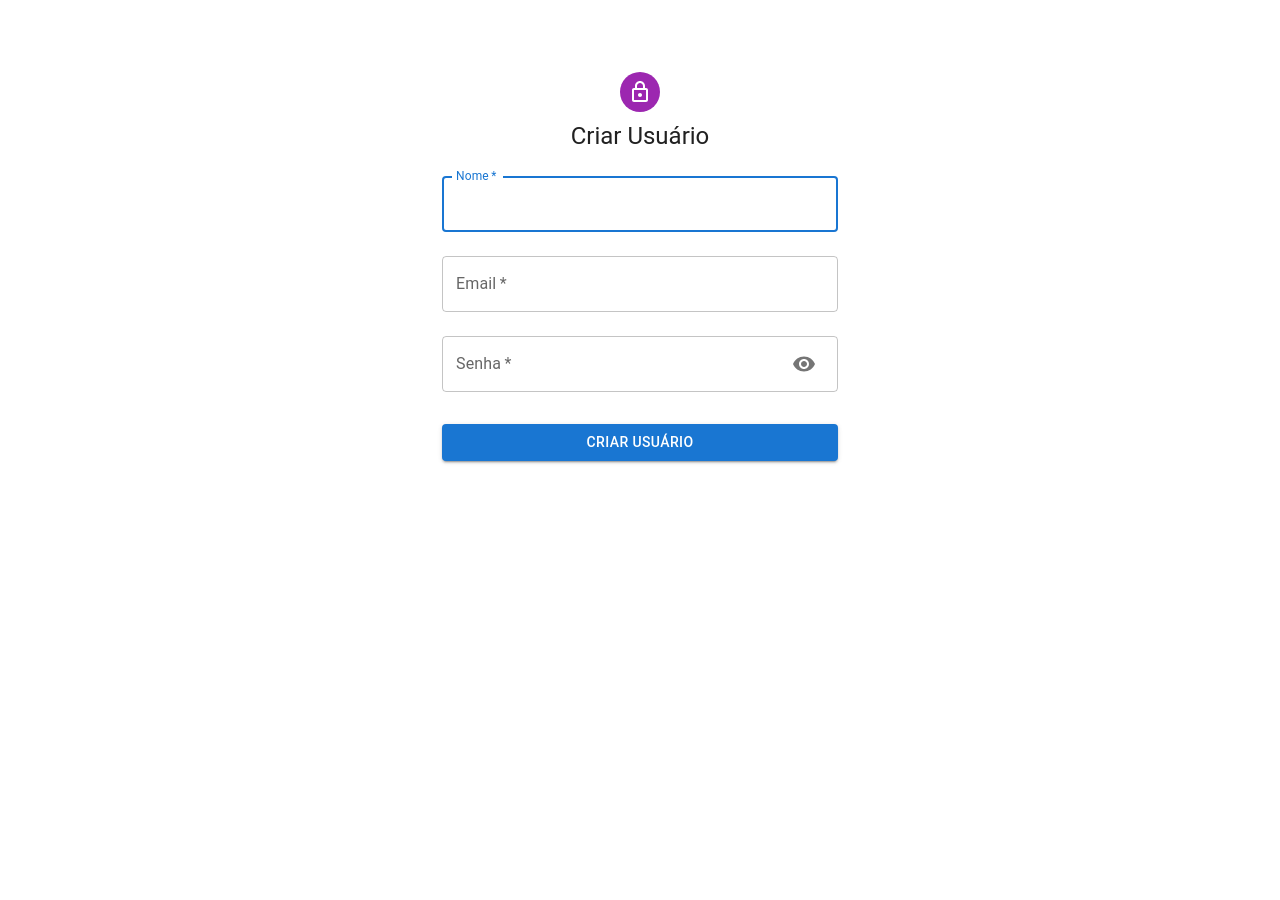
Test case: renders CreateUser and submits form
This screenshot has width=1280, height=900.
Type "Test User" into the field labelled "Nome *" at (640, 204), box [442,176,838,232]
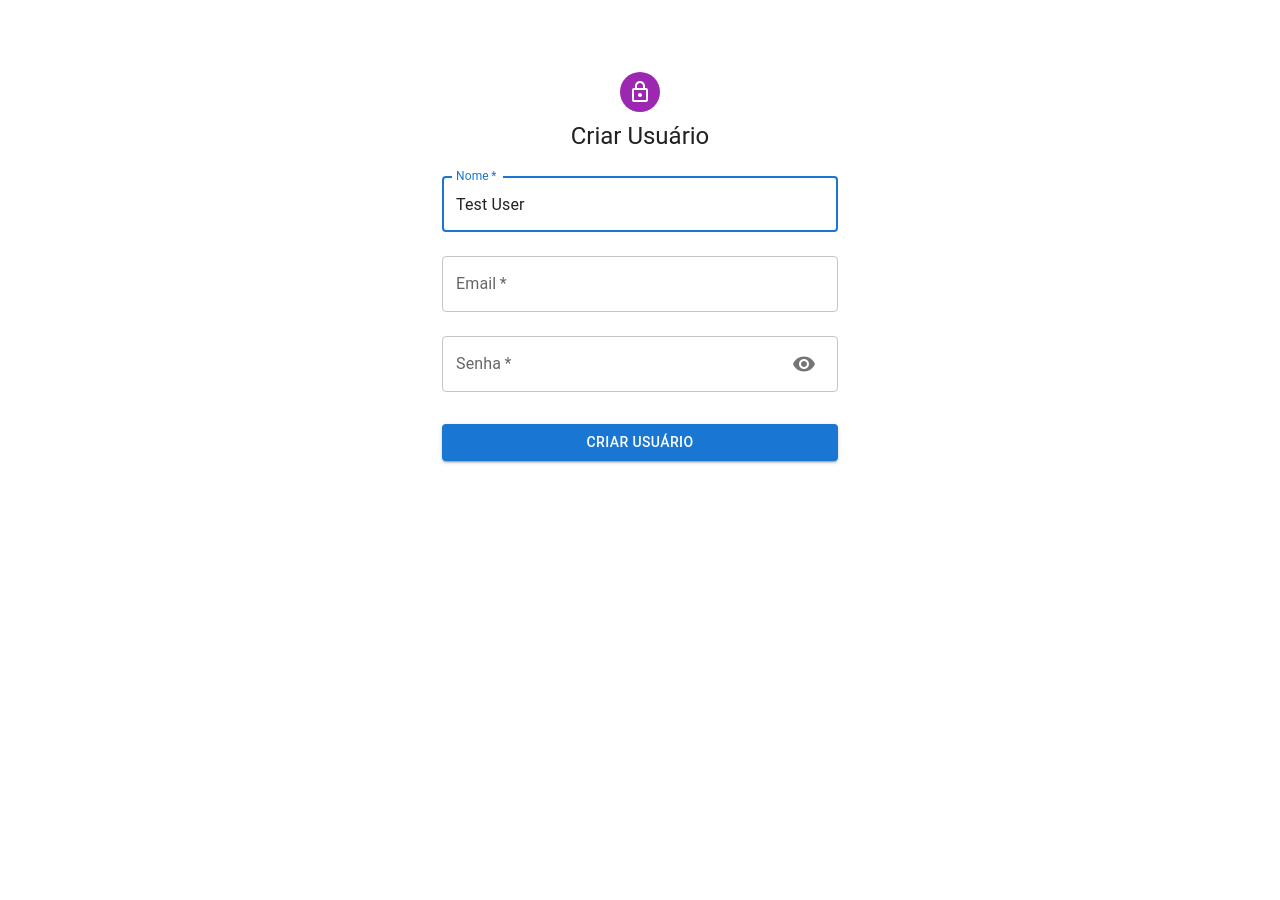
Type "test@example.com" into the field labelled "Email *" at (640, 284), box [442,256,838,312]
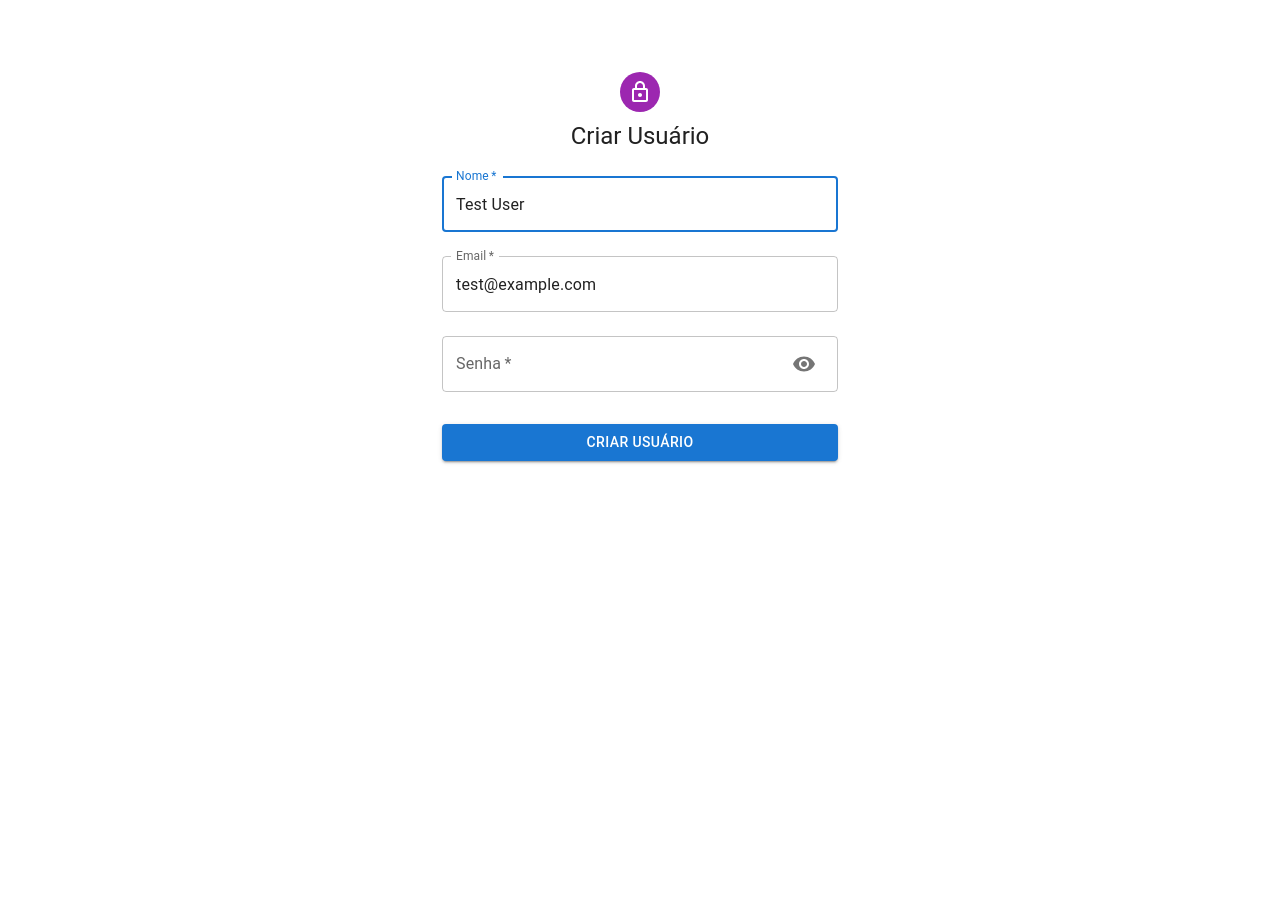
Type "password" into the password field labelled "Senha *" at (609, 364), box [442,336,776,392]
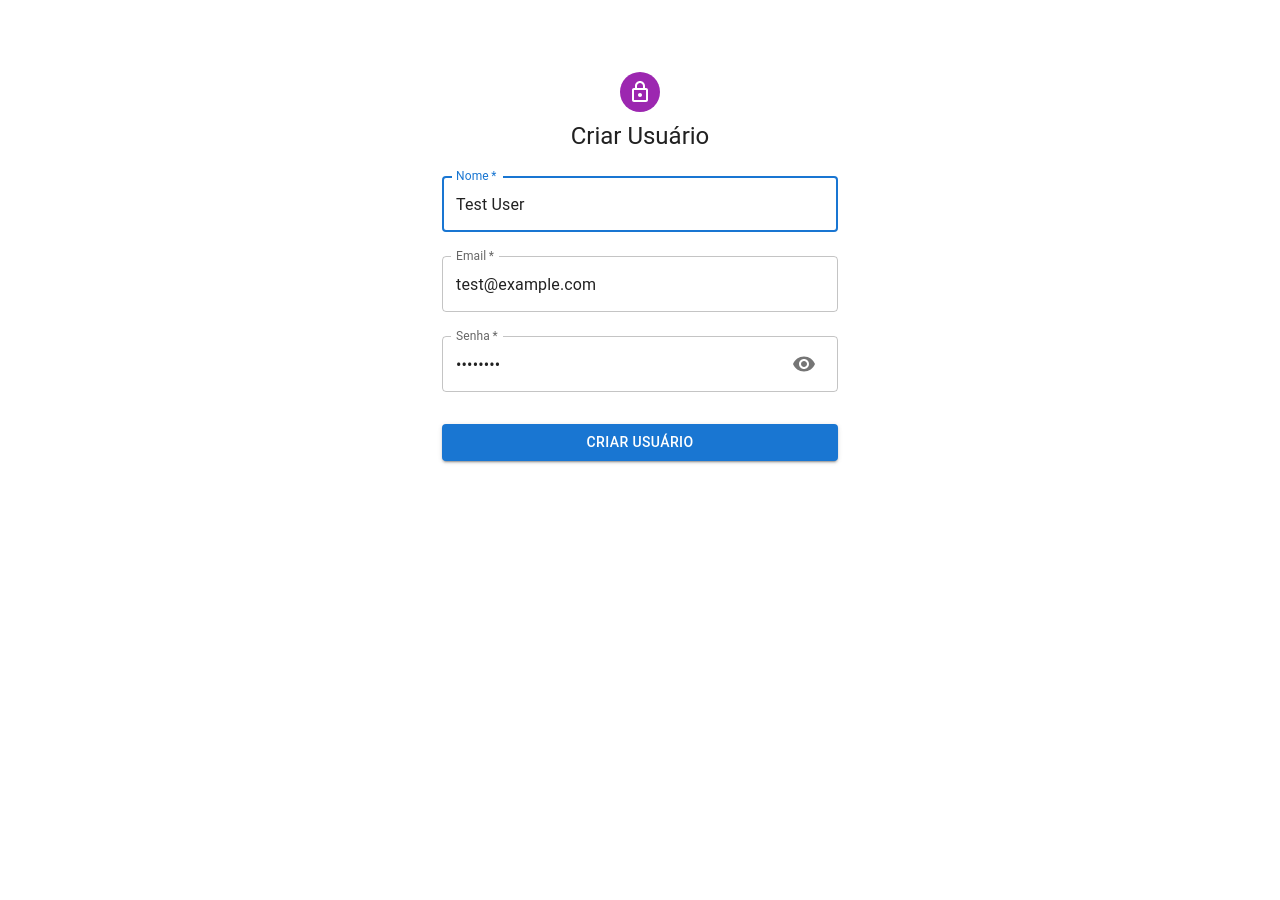
Click the button "Criar Usuário" at (640, 442), box [442,424,838,460]
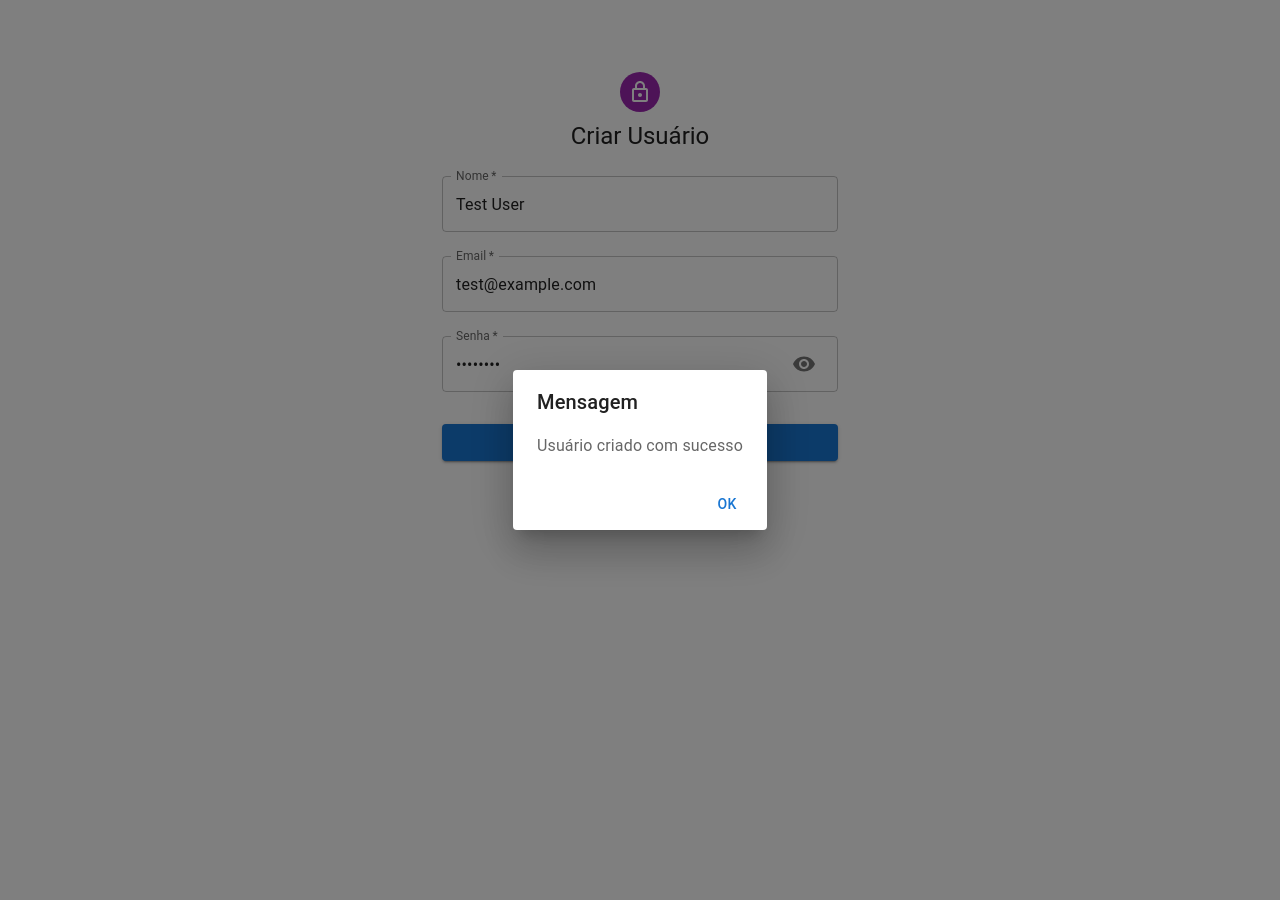
Expected: the text "Usuário criado com sucesso" is shown, [537,434,743,458]
Click the button "Ok" at (727, 504), box [695,486,759,522]
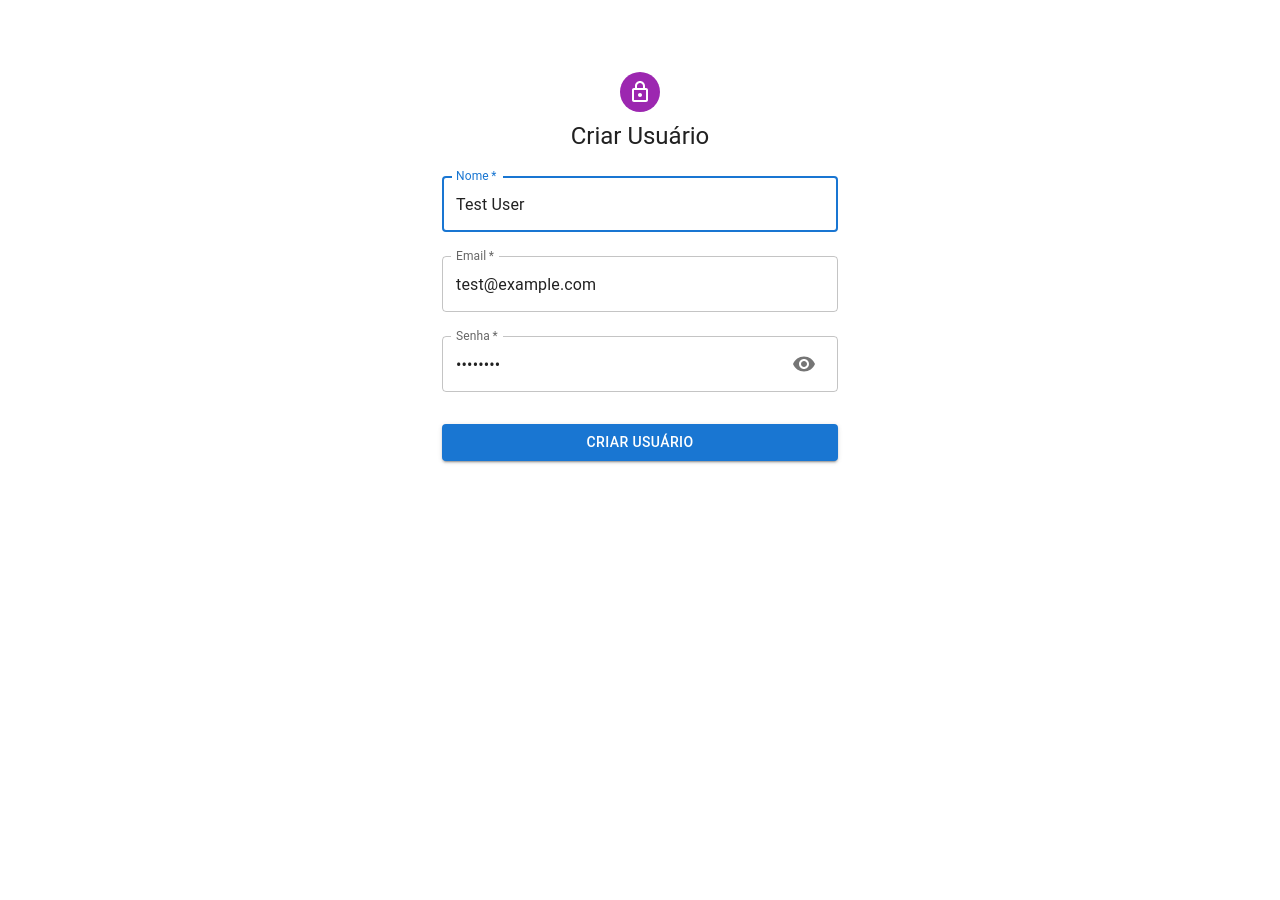
Expected: the text "Usuário criado com sucesso" is gone
